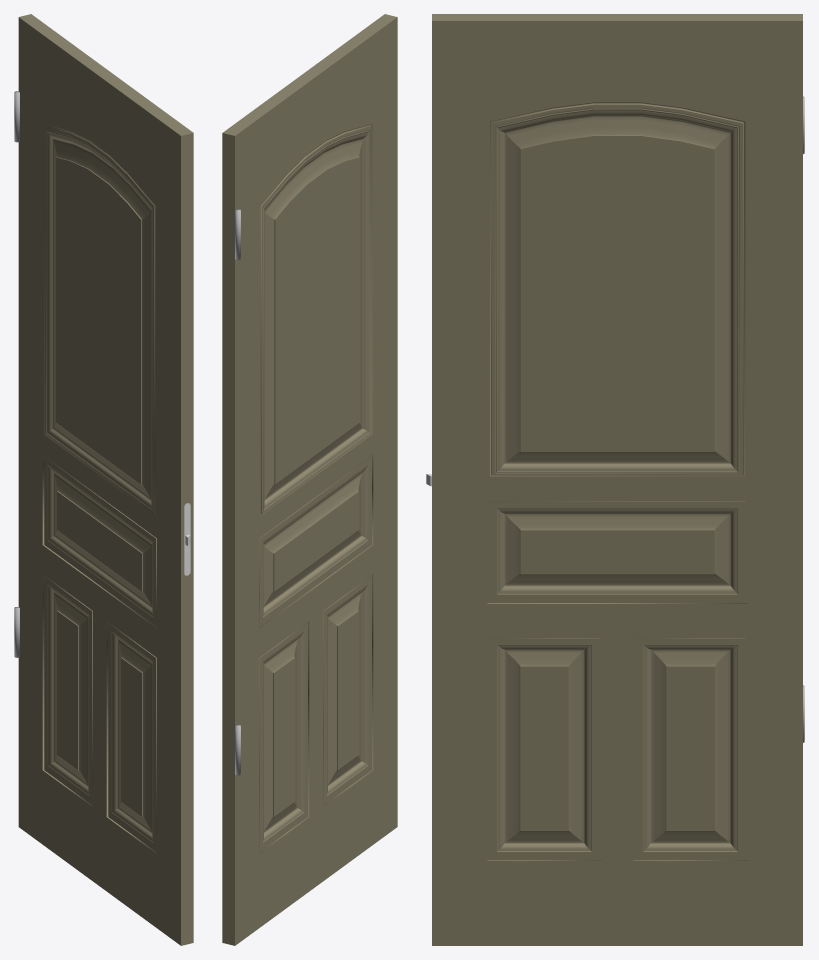
The model's file is 69_LIVERPOOL_Door.glb.
The picture shows the model from 3 angles, left to right: view 1: azimuth 30°, elevation 25°; view 2: azimuth 150°, elevation 25°; view 3: azimuth 270°, elevation 25°; orthographic projection. The views are drawn at different scales.
Parts seen in each view (by area): view 1: 69_LIVERPOOL_Door; view 2: 69_LIVERPOOL_Door; view 3: 69_LIVERPOOL_Door.
Part boxes in pixels (box(x1,y1,x2,y2)): 69_LIVERPOOL_Door: box(14, 14, 193, 945); 69_LIVERPOOL_Door: box(222, 14, 397, 945); 69_LIVERPOOL_Door: box(426, 14, 804, 945).
Size of the model in its own units: 0.0537 by 2.2 by 0.8162.
